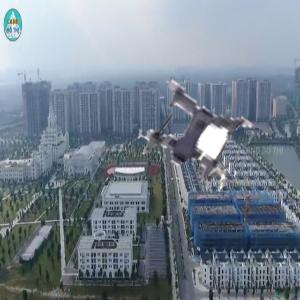drone: (126, 69, 259, 202)
